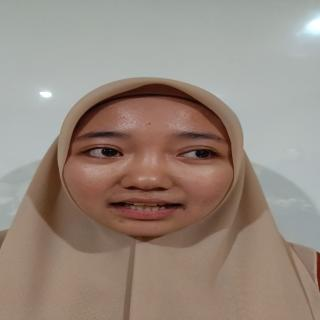Takut: (66, 92, 237, 237)
